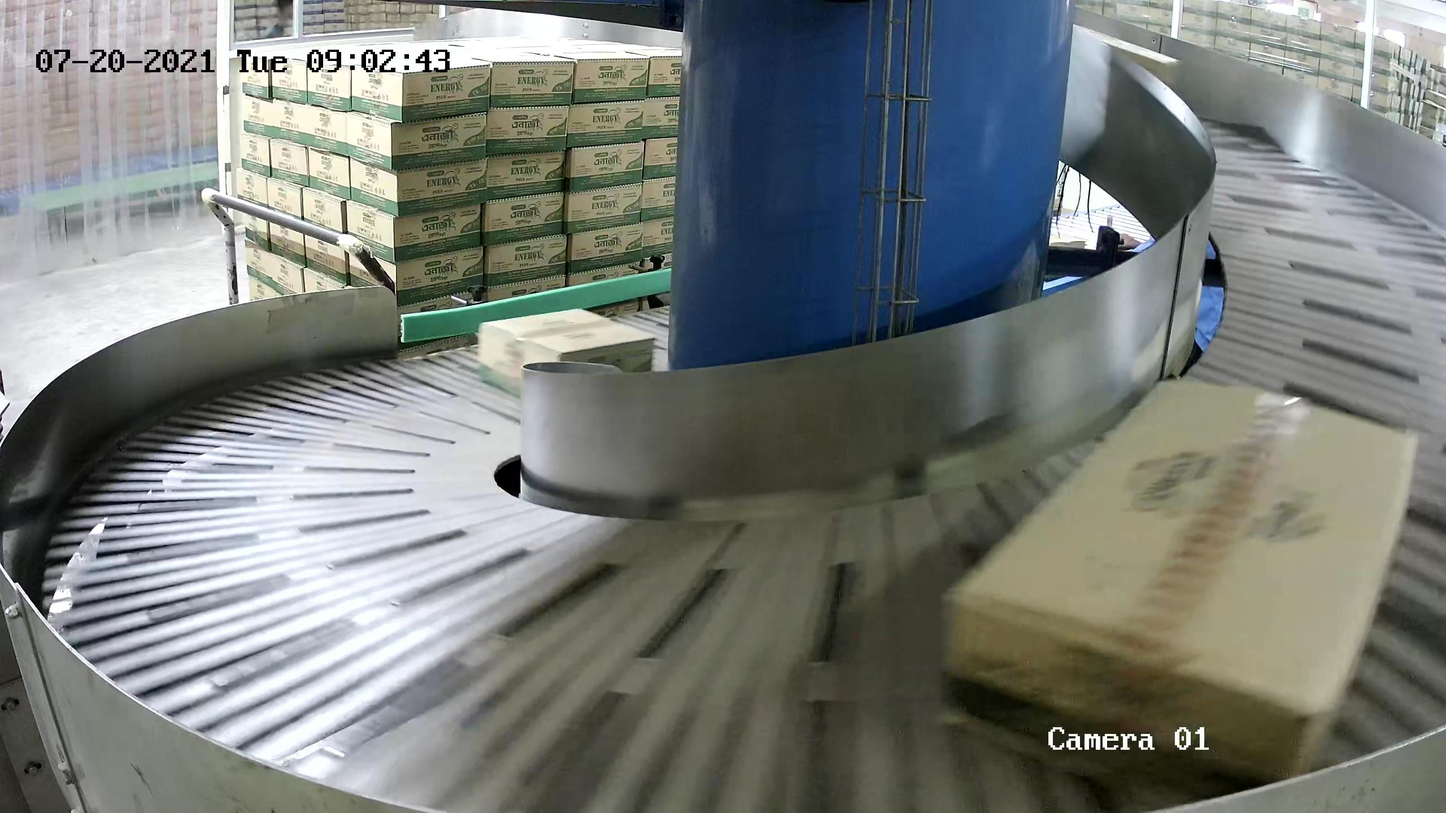Box: (937, 375, 1426, 813), (477, 308, 655, 409)
